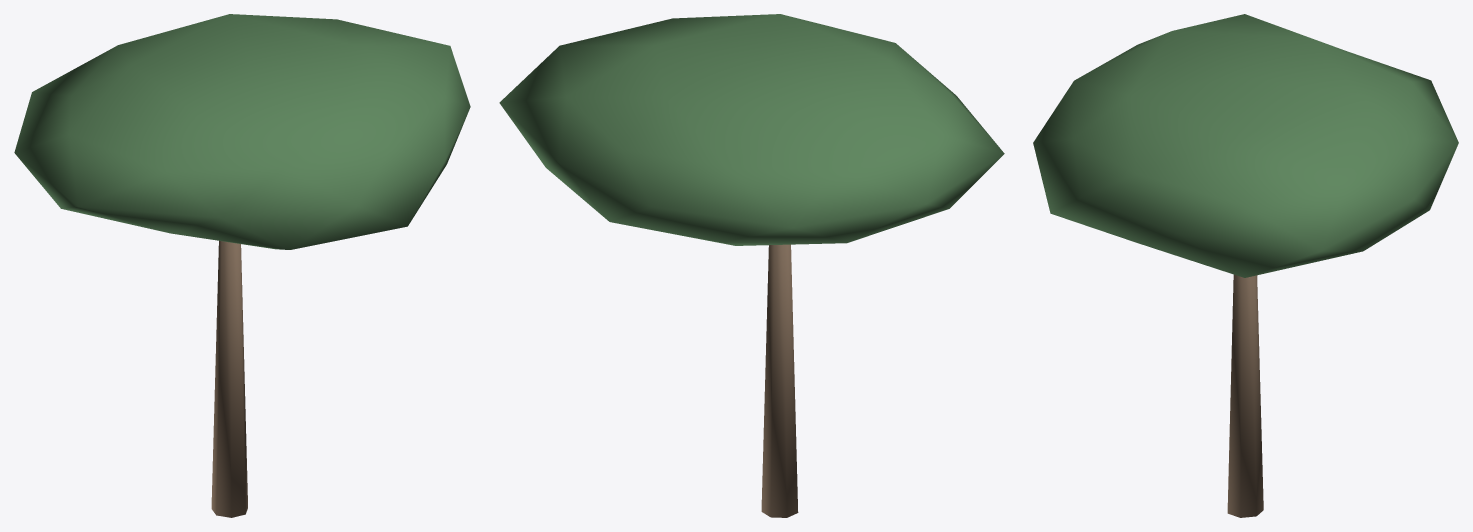
Rendered from tree_umbrella.glb.
The picture shows the model from 3 angles, left to right: view 1: azimuth 30°, elevation 25°; view 2: azimuth 150°, elevation 25°; view 3: azimuth 270°, elevation 25°; orthographic projection.
Parts seen in each view (by area): view 1: tree_umbrella; view 2: tree_umbrella; view 3: tree_umbrella.
Part boxes in pixels (left/top/right/bottom): tree_umbrella: left=14, top=14, right=470, bottom=517; tree_umbrella: left=499, top=14, right=1004, bottom=517; tree_umbrella: left=1033, top=14, right=1458, bottom=517.
Size of the model in its own units: 7.91 by 7.75 by 6.74.
